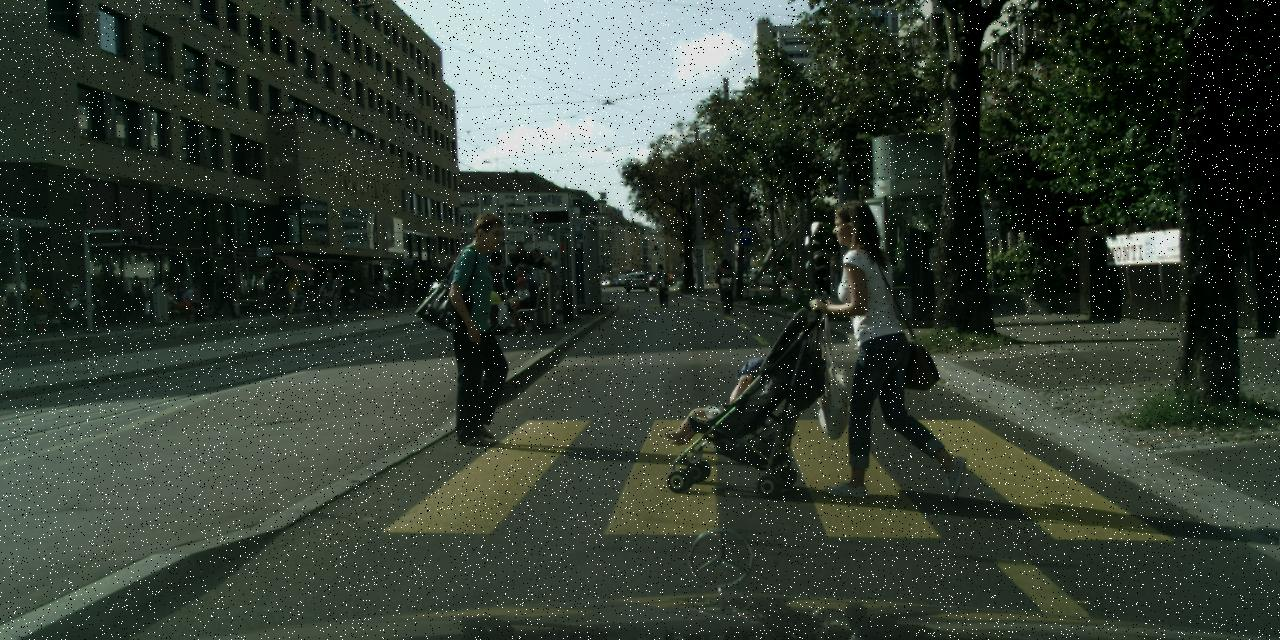ped: (819, 198, 938, 491), (438, 213, 530, 440), (508, 240, 542, 322), (500, 250, 532, 328), (480, 250, 510, 328), (521, 248, 550, 320), (528, 250, 555, 317), (216, 268, 235, 318), (128, 274, 146, 322), (716, 259, 734, 303), (174, 276, 190, 316), (322, 272, 338, 312), (286, 274, 301, 313), (769, 258, 784, 296), (148, 283, 162, 321), (654, 263, 668, 299), (270, 273, 283, 306), (335, 273, 348, 306)
